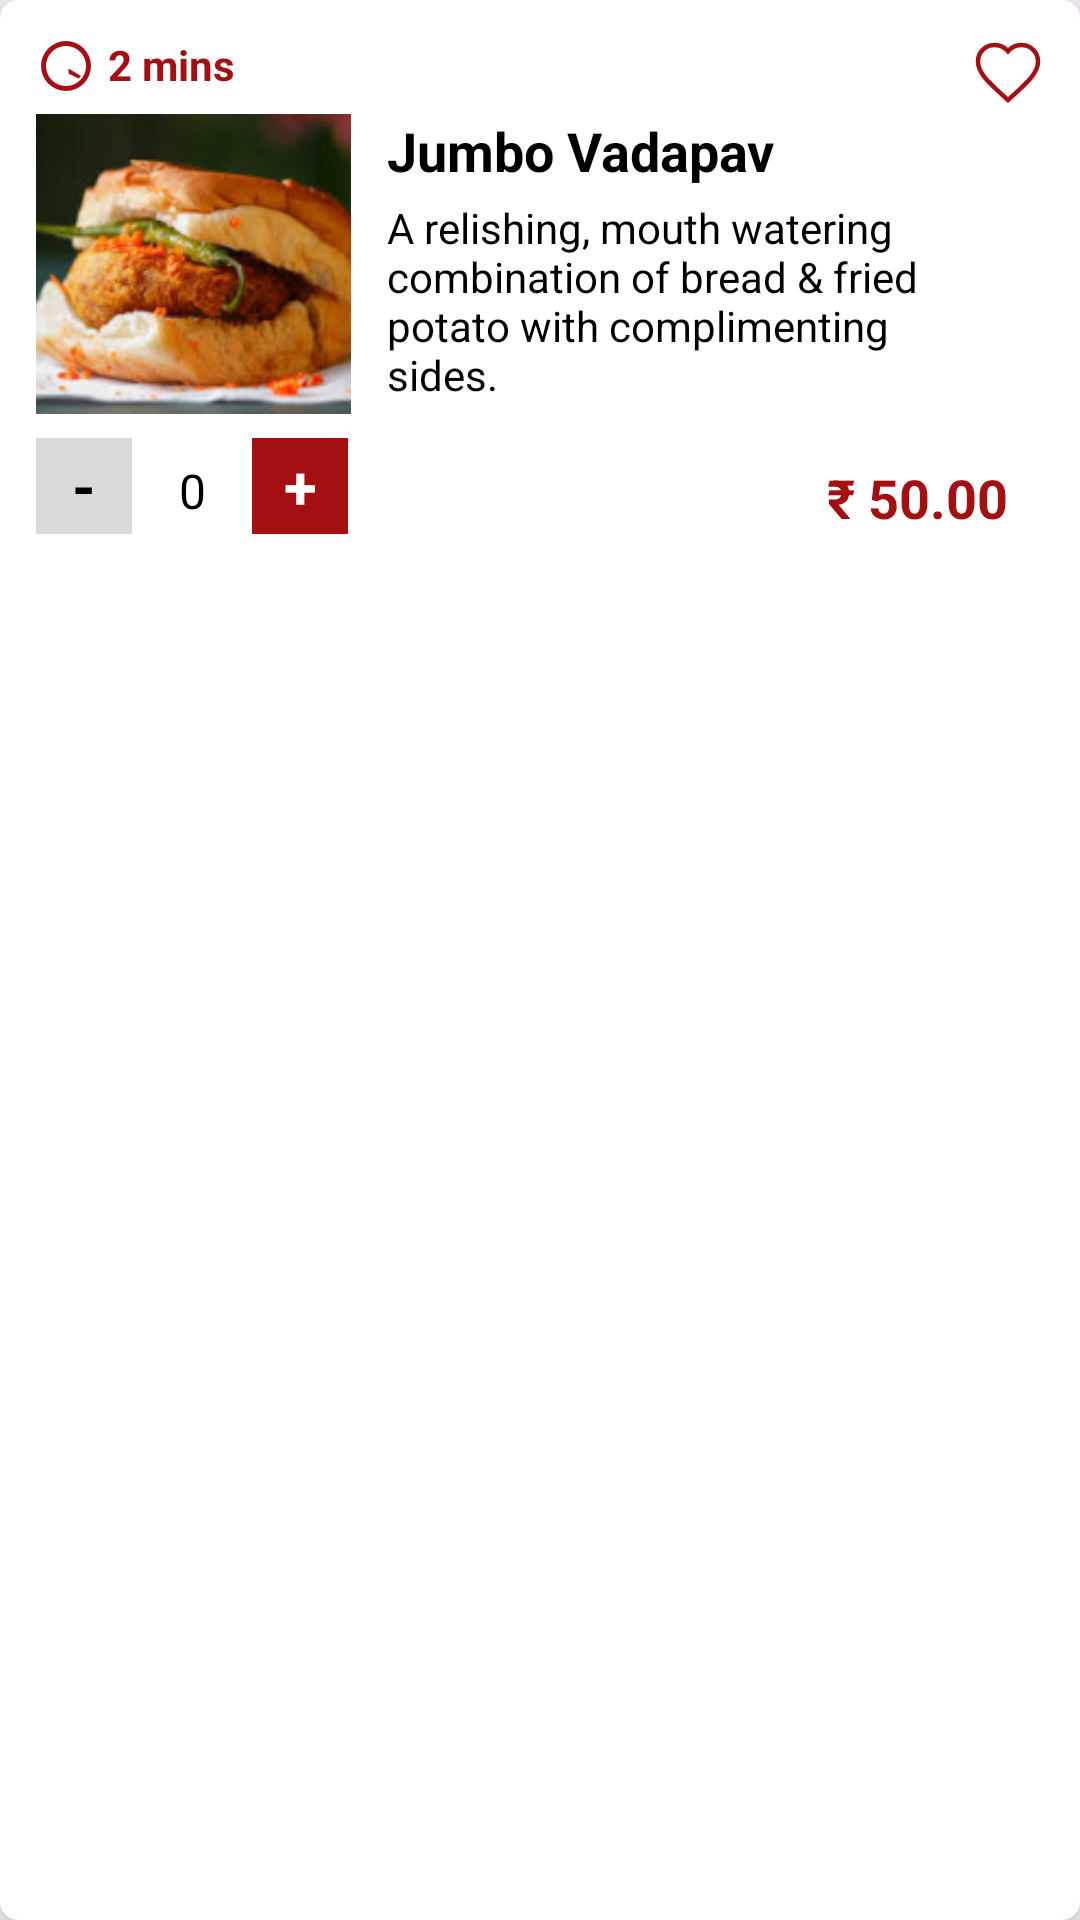

Named icons in this screenshot (1080*1920) and their centers, point (x, y):
clock: point (66, 66)
heart: point (1008, 72)
